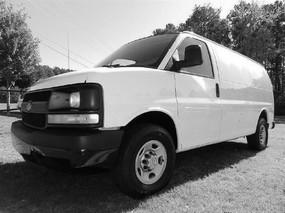car: (8, 28, 279, 201)
